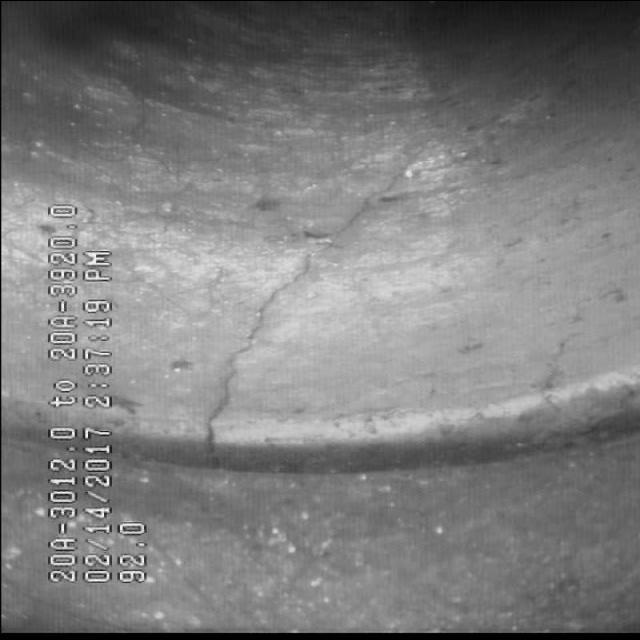Crack: (152, 166, 382, 440)
